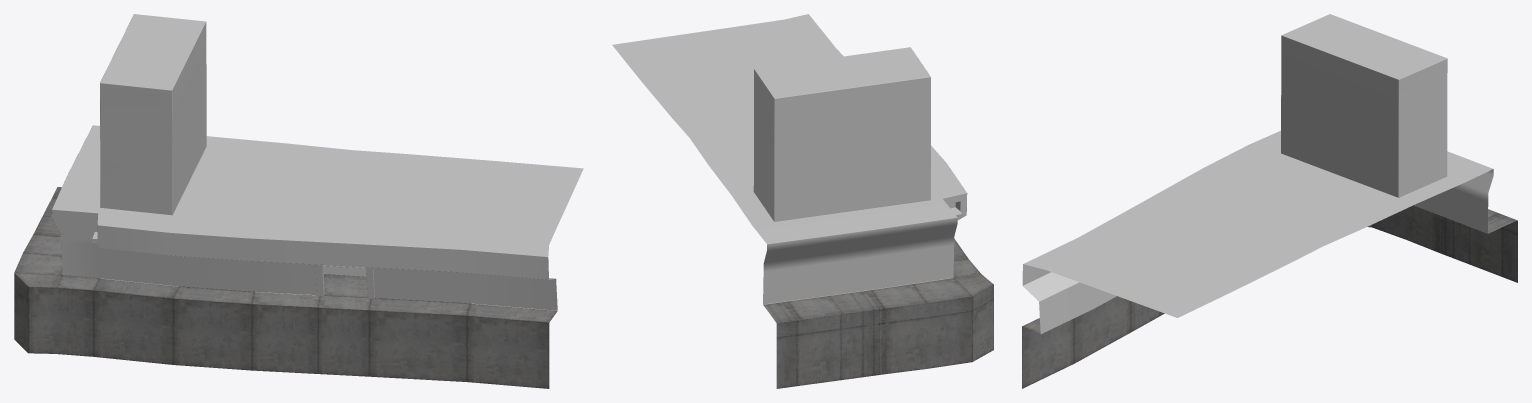
Rendered from SM_CorridorSculpture_02_02.fbx.
The picture shows the model from 3 angles, left to right: view 1: azimuth 30°, elevation 25°; view 2: azimuth 150°, elevation 25°; view 3: azimuth 270°, elevation 25°; orthographic projection. The views are drawn at different scales.
Visible parts, largest first — view 1: SM_CorridorSculpture_02_02; view 2: SM_CorridorSculpture_02_02; view 3: SM_CorridorSculpture_02_02.
Boxes of the visible parts, <box> form: SM_CorridorSculpture_02_02: <box>14,14,583,388</box>; SM_CorridorSculpture_02_02: <box>612,14,993,388</box>; SM_CorridorSculpture_02_02: <box>1022,14,1517,388</box>.
Size of the model in its own units: 5586 by 2911 by 5386.
